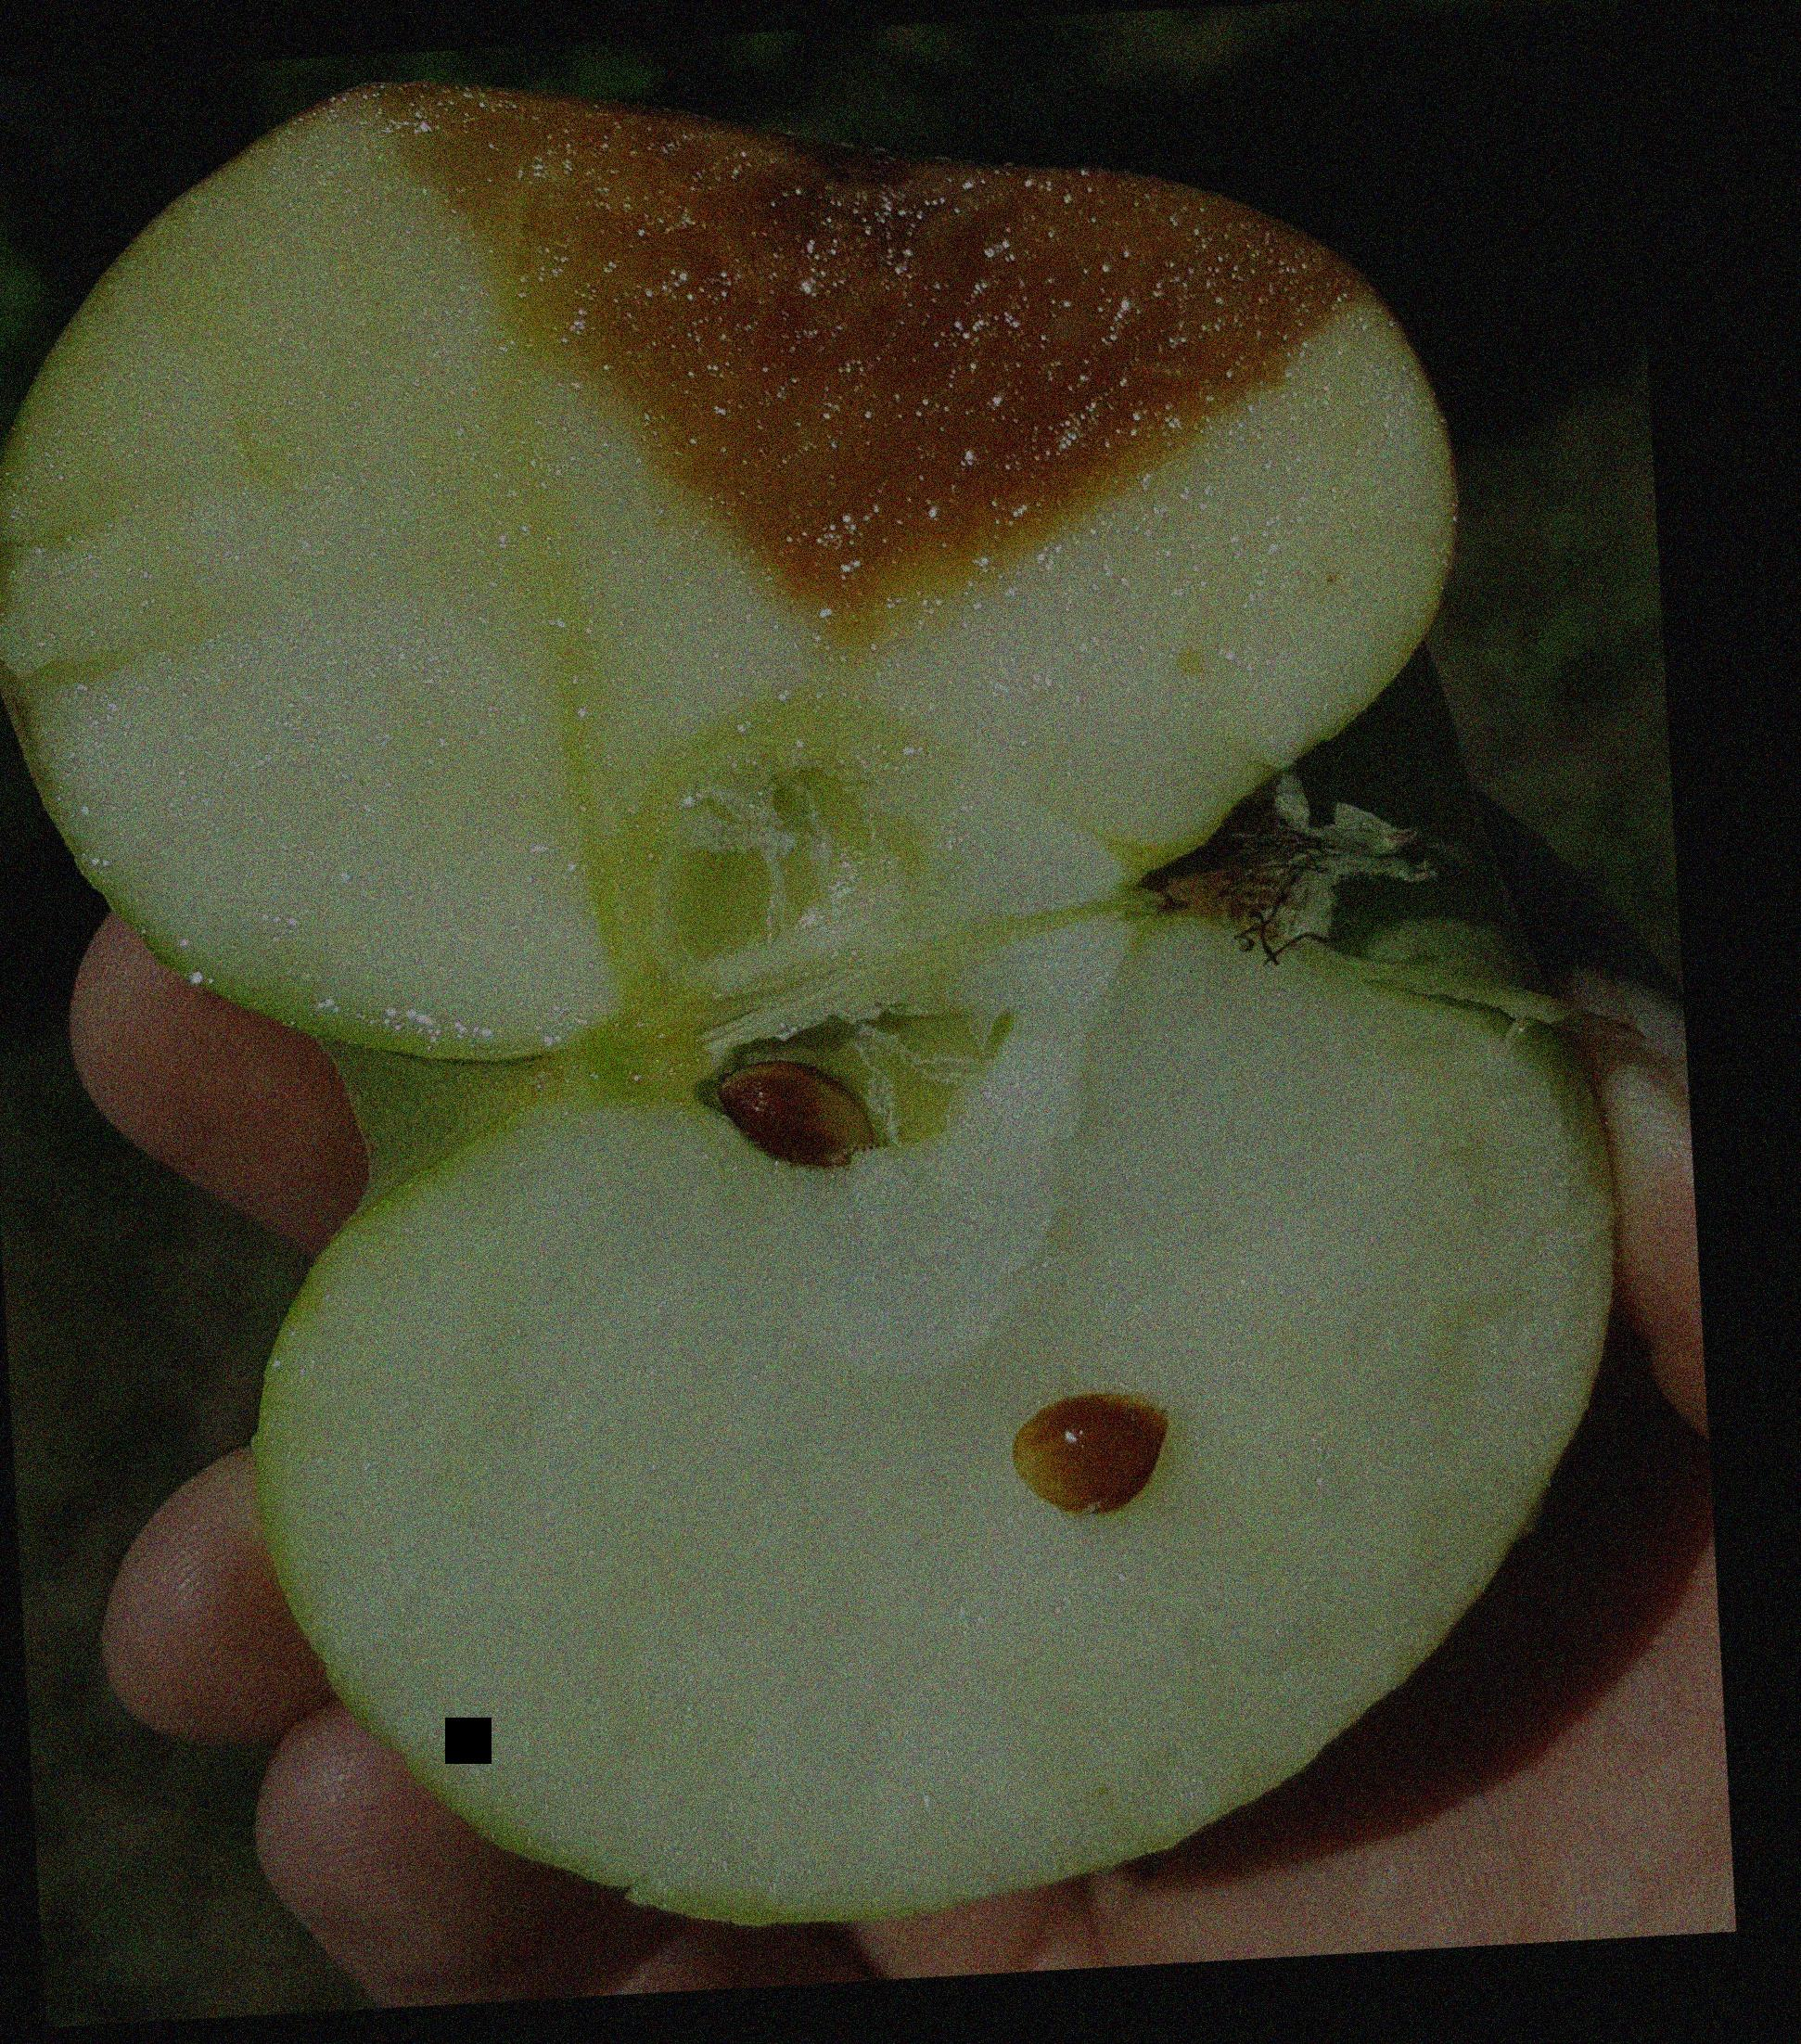rotten apple: (162, 127, 1419, 600)
